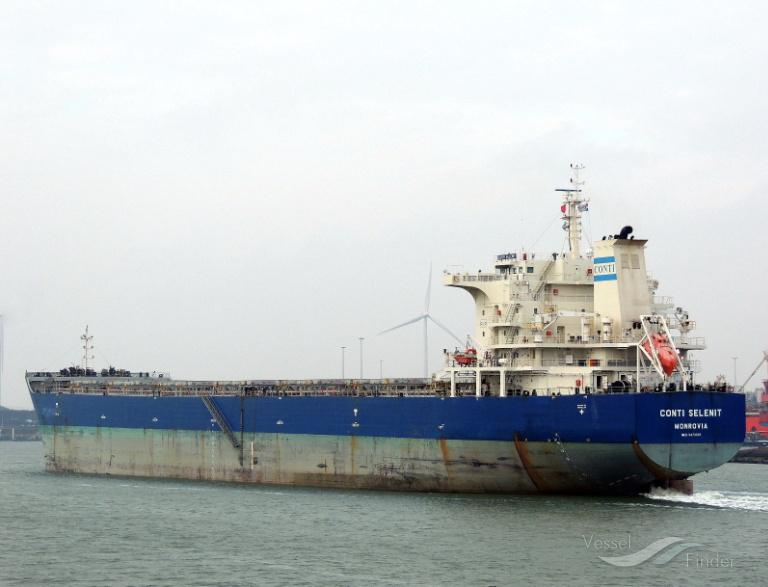OCR: (657, 404, 725, 437)
